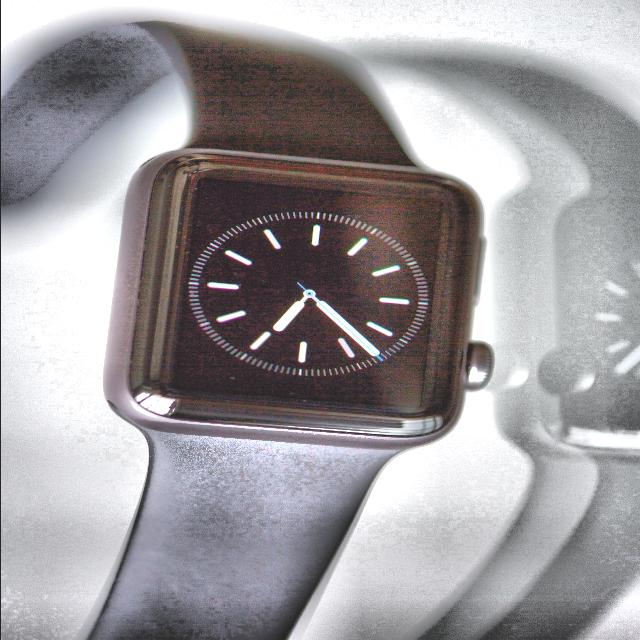Electronic watch: (0, 19, 490, 640)
